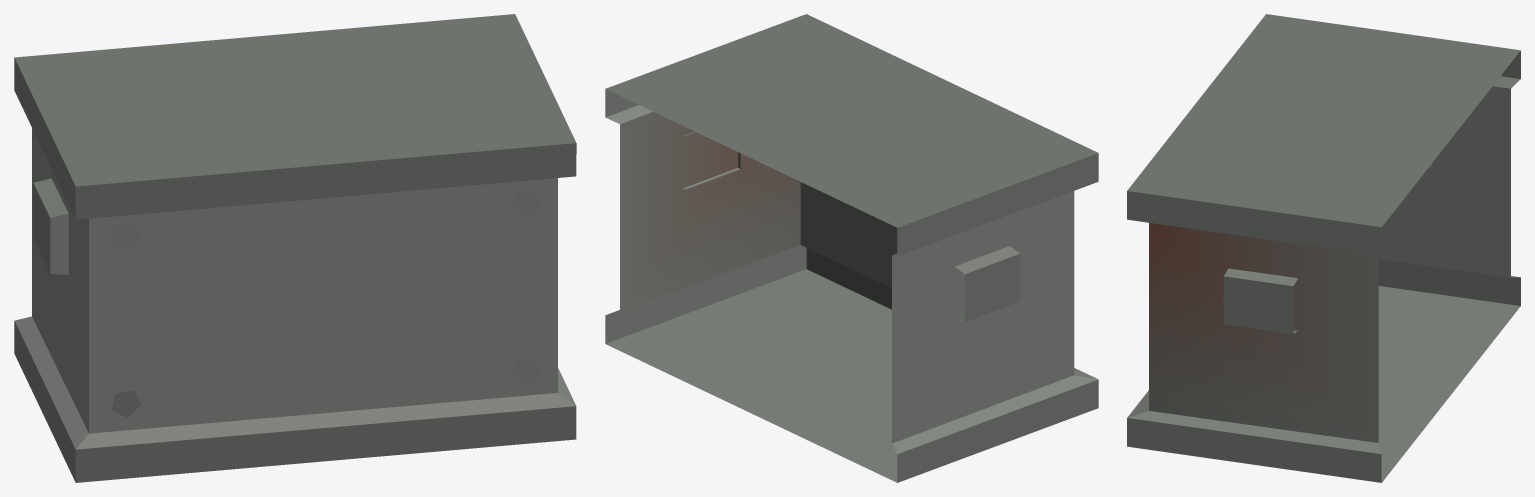
The model's file is MSH_QuestObject_container_01.fbx.
The picture shows the model from 3 angles, left to right: view 1: azimuth 30°, elevation 25°; view 2: azimuth 150°, elevation 25°; view 3: azimuth 270°, elevation 25°; orthographic projection. The views are drawn at different scales.
Parts seen in each view (by area): view 1: MSH_QuestObject_container_01; view 2: MSH_QuestObject_container_01; view 3: MSH_QuestObject_container_01.
Part boxes in pixels (x1=…): MSH_QuestObject_container_01: x1=14, y1=14, x2=576, y2=482; MSH_QuestObject_container_01: x1=605, y1=14, x2=1098, y2=482; MSH_QuestObject_container_01: x1=1127, y1=14, x2=1520, y2=482.
Bounding box in the file's own units: 1.35 × 0.7543 × 1.05.
